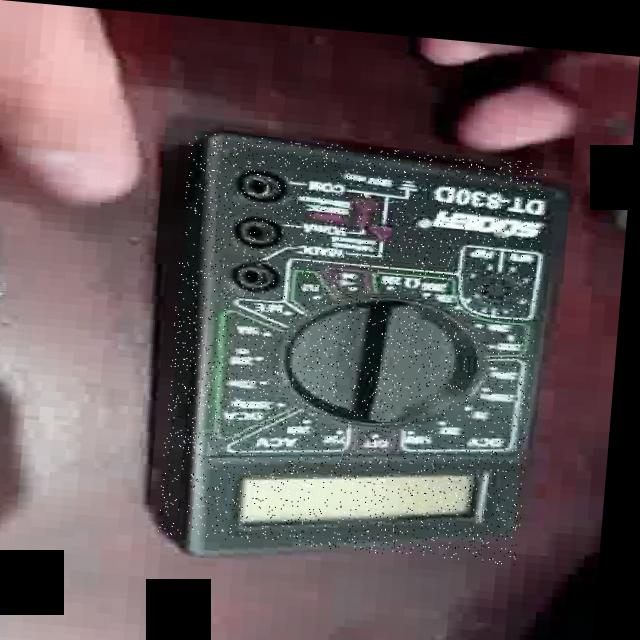multimeter: (166, 128, 552, 555)
